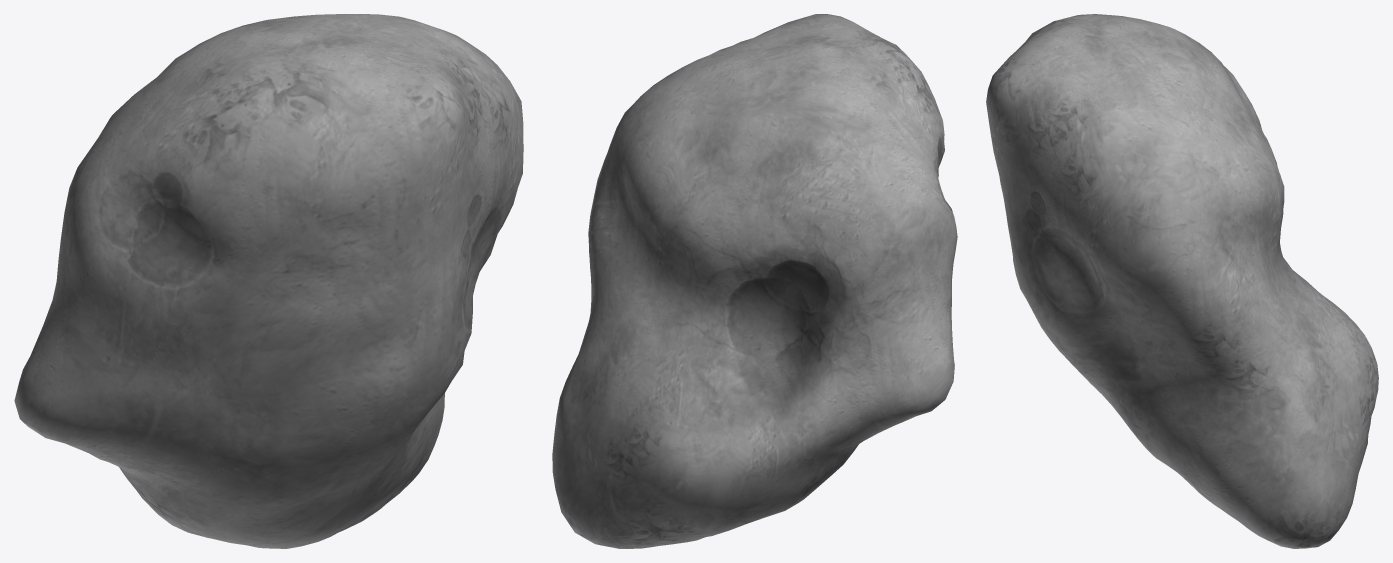
3 views of the same model, side by side, from view 1: azimuth 30°, elevation 25°; view 2: azimuth 150°, elevation 25°; view 3: azimuth 270°, elevation 25° (orthographic). The views are drawn at different scales.
Visible parts, largest first — view 1: asteroid_01; view 2: asteroid_01; view 3: asteroid_01.
Boxes of the visible parts, <box> form: asteroid_01: <box>14,14,523,548</box>; asteroid_01: <box>552,14,957,548</box>; asteroid_01: <box>986,14,1378,548</box>.
Size of the model in its own units: 1.65 by 2 by 1.57.
1 material, 1 textured.
